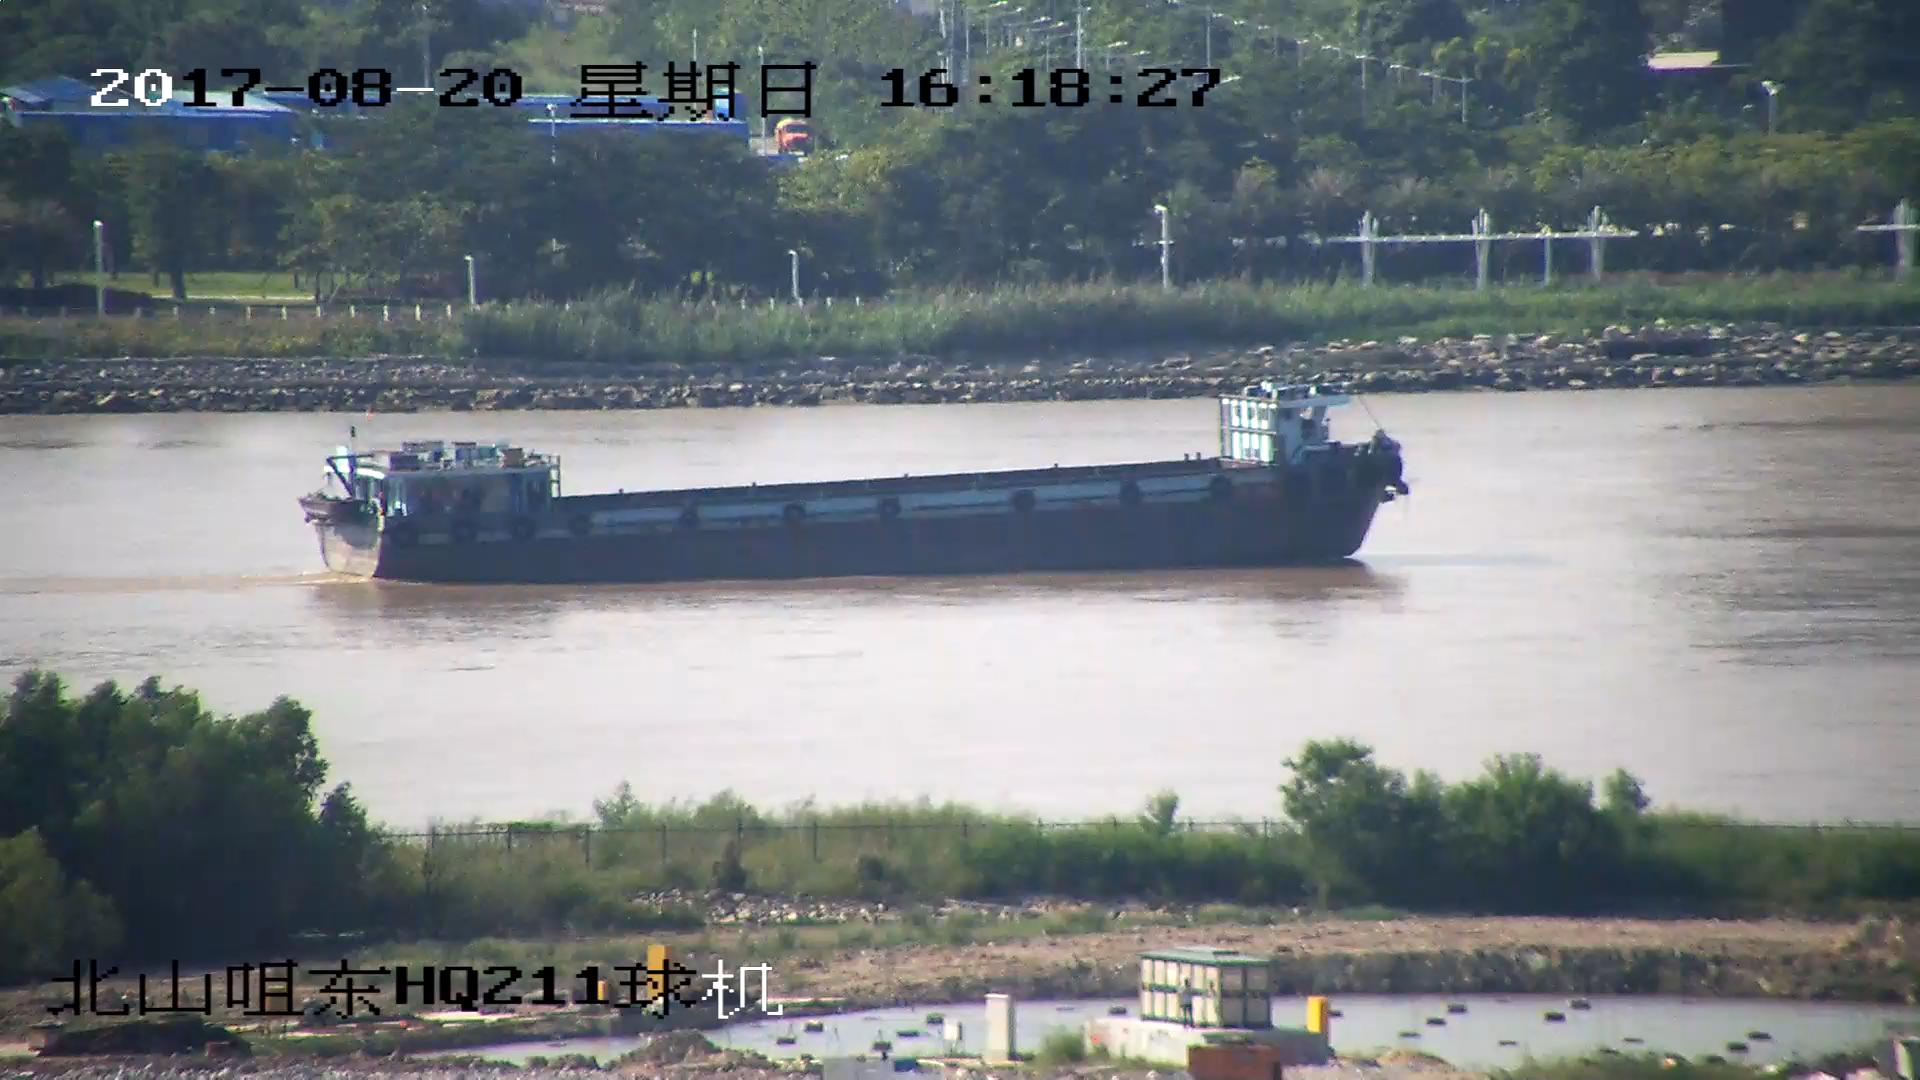general cargo ship: (317, 386, 1409, 580)
